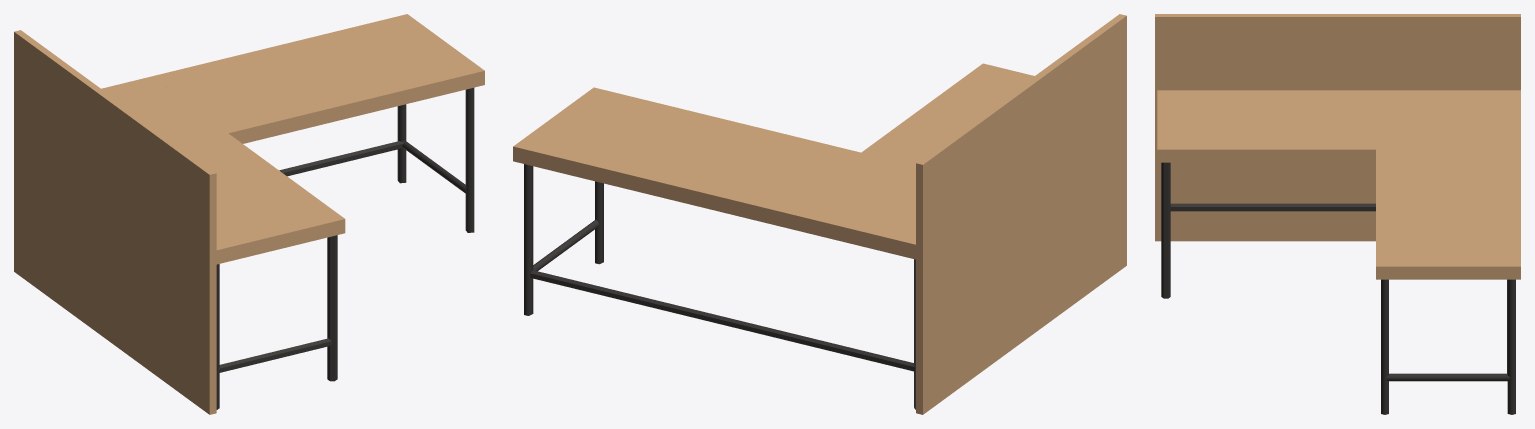
File: desk3.FBX
3 views of the same model, side by side, from view 1: azimuth 30°, elevation 25°; view 2: azimuth 150°, elevation 25°; view 3: azimuth 270°, elevation 25° (orthographic). The views are drawn at different scales.
Parts seen in each view (by area): view 1: desk3_patiton, desk3; view 2: desk3_patiton, desk3; view 3: desk3, desk3_patiton.
Part boxes in pixels (<box>): desk3_patiton: <box>14,30,216,414</box>; desk3: <box>101,14,484,409</box>; desk3_patiton: <box>916,14,1126,414</box>; desk3: <box>513,63,1034,409</box>; desk3: <box>1157,90,1520,414</box>; desk3_patiton: <box>1155,14,1520,241</box>.
Bounding box in the file's own units: 193 × 113 × 166.
Materials: 1 (1 with a texture image).
